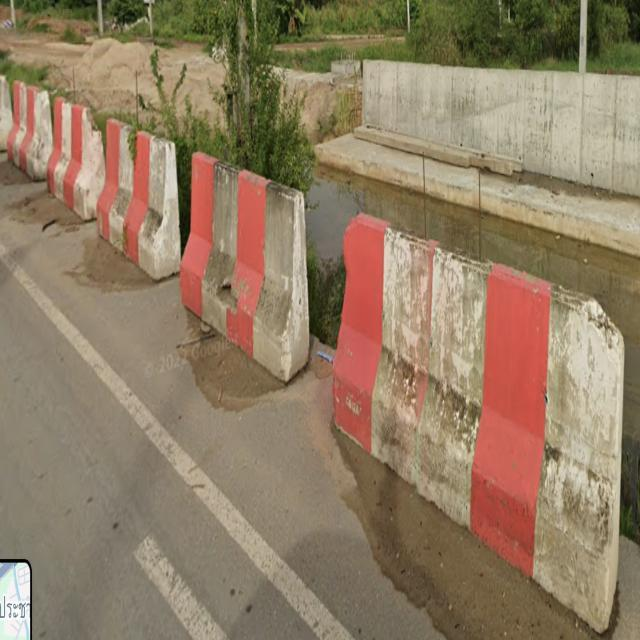fallen_object: (319, 205, 640, 618), (166, 140, 329, 381), (87, 116, 190, 290), (0, 66, 110, 214)
